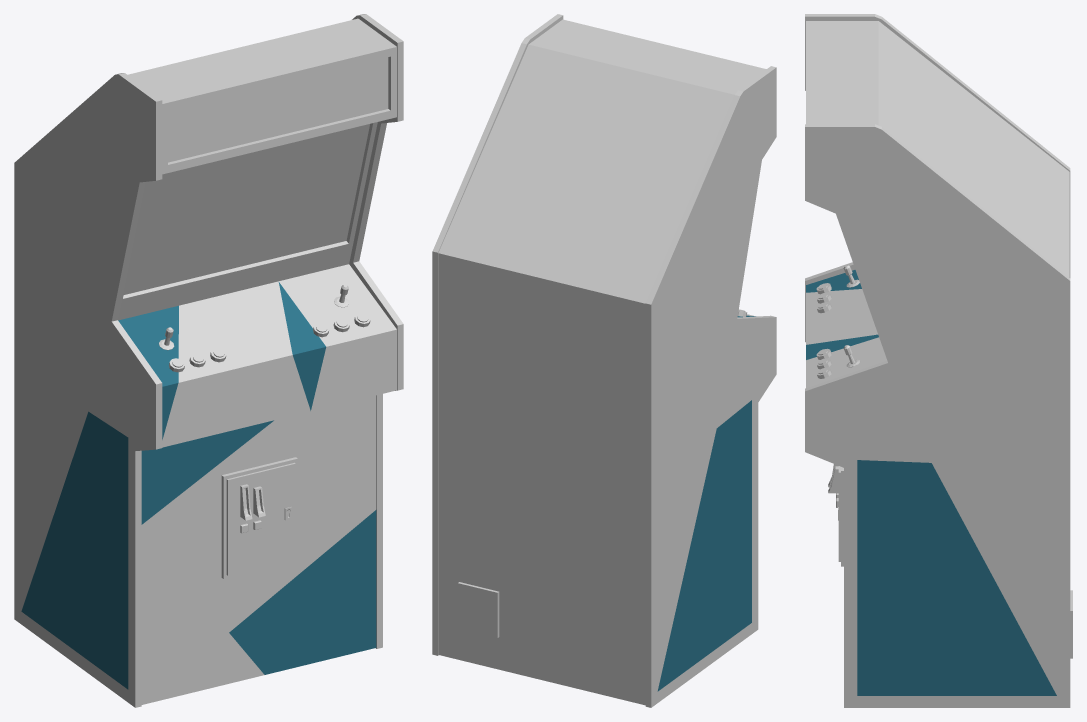
Rendered from 02_arcade_machine_V1.glb.
3 views of the same model, side by side, from view 1: azimuth 30°, elevation 25°; view 2: azimuth 150°, elevation 25°; view 3: azimuth 270°, elevation 25° (orthographic). The views are drawn at different scales.
Parts seen in each view (by area): view 1: ArcadeMachineV1; view 2: ArcadeMachineV1; view 3: ArcadeMachineV1.
Part boxes in pixels (x1,y1,x2,y2): ArcadeMachineV1: (14,14,403,707); ArcadeMachineV1: (432,14,776,707); ArcadeMachineV1: (805,14,1072,707).
Bounding box in the file's own units: 0.996 × 2.39 × 0.9974.
